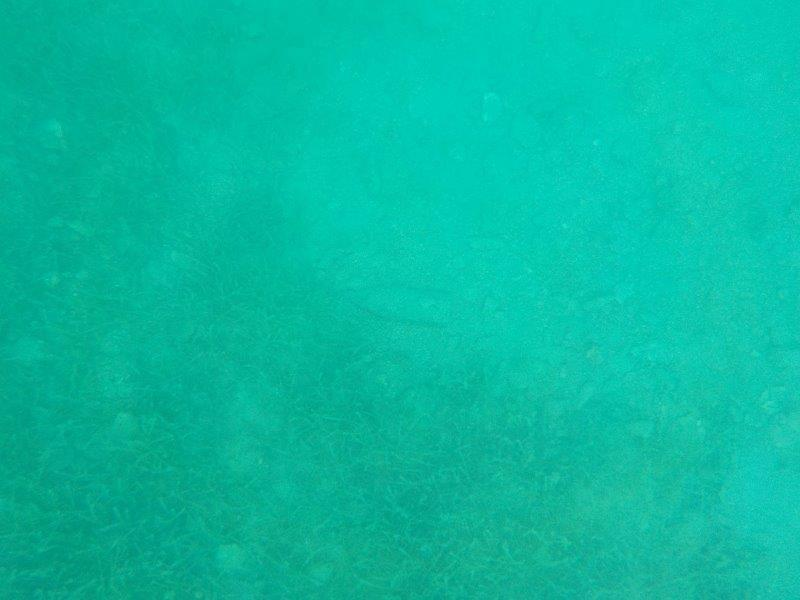bottle: (335, 275, 461, 333)
